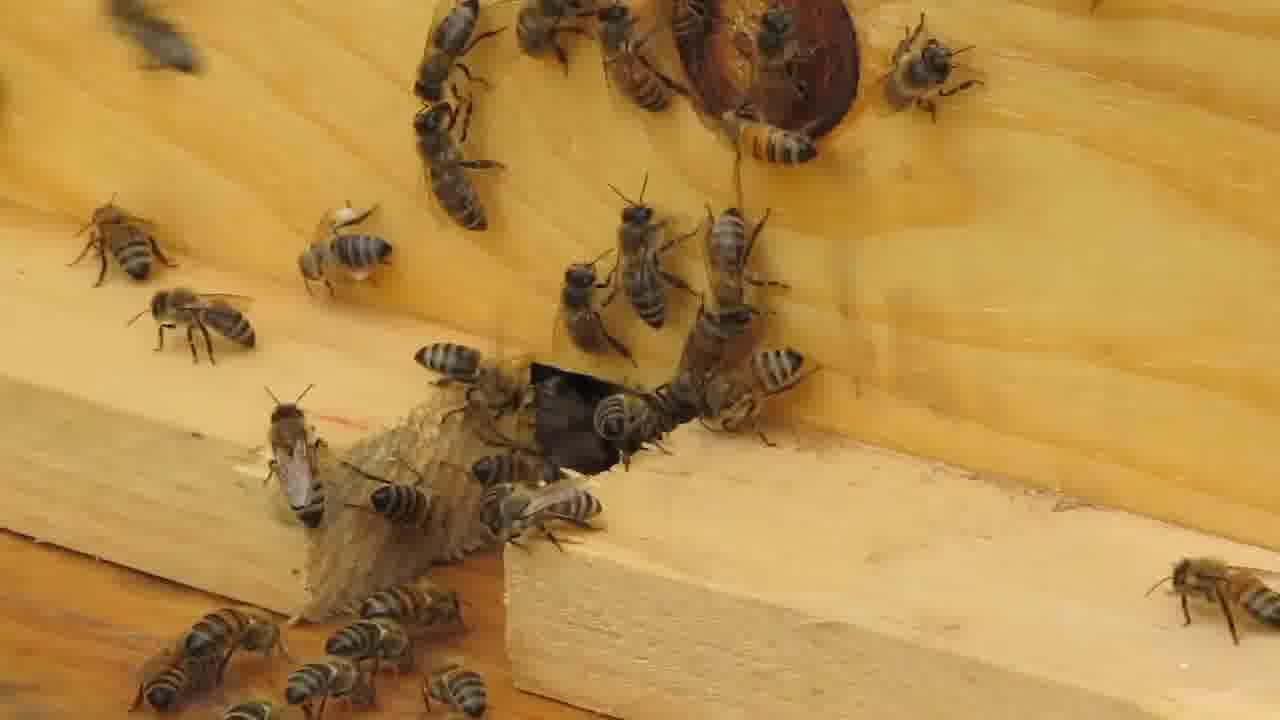pollen: (300, 201, 395, 301)
